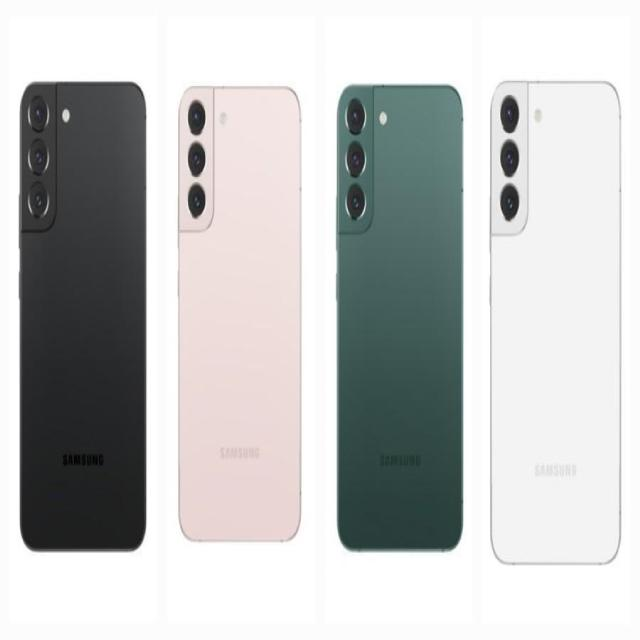mobile-phone: (489, 71, 622, 569), (336, 72, 467, 560), (20, 72, 149, 560), (179, 74, 303, 546)
